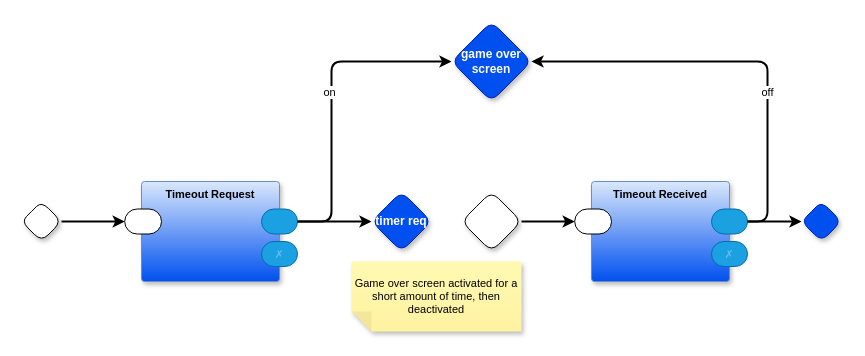
The diagram is 865 pixels wide and 356 high, and some of its shapes have lost their labels. The centre of each missing label's shape, as x and y in pixels:
game over: pixel 42 222
reset: pixel 822 222
timeout: pixel 492 222
